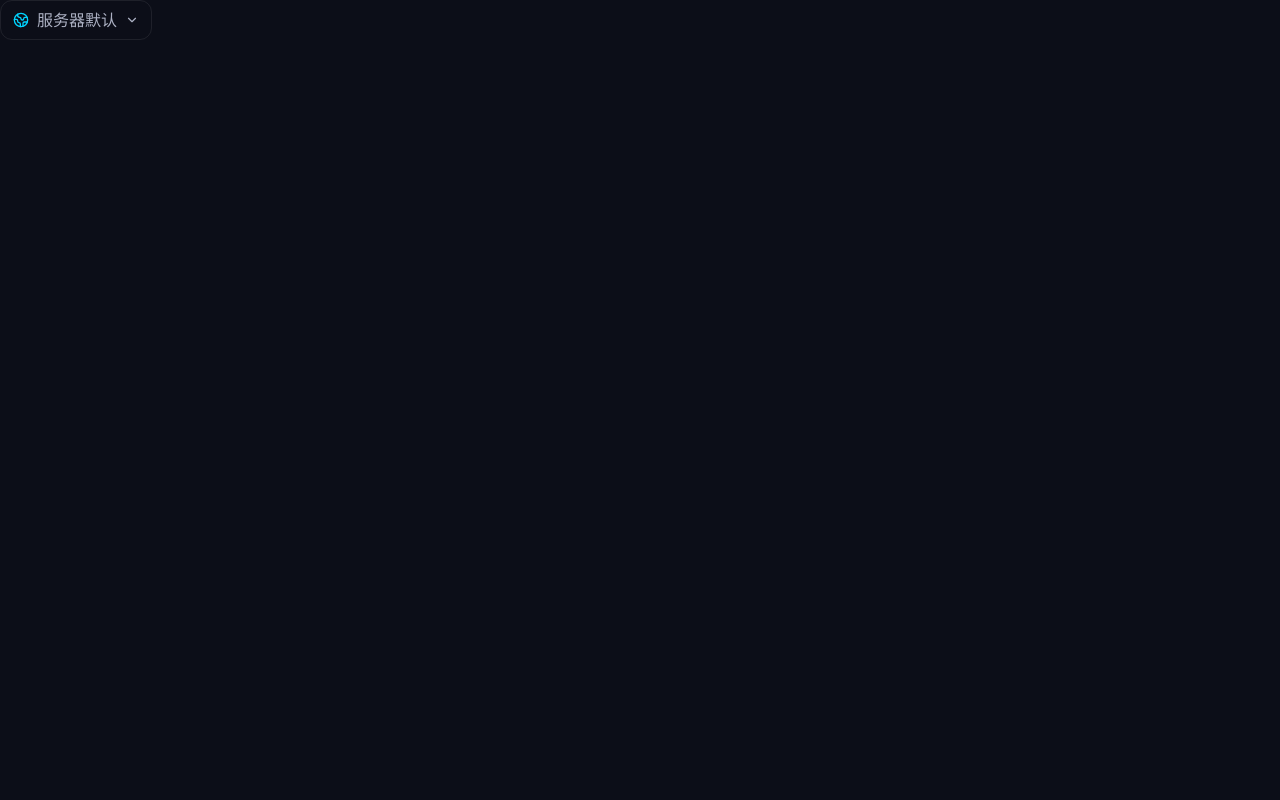
Test case: MarketReviewRegionSelector › keeps the runtime-resolved server default opaque and emits a canonical override
The width and height of the screenshot is (1280, 800).
Later steps or results of the test are not shown.
Click the button with aria-label "选择大盘复盘市场" at {"x": 76, "y": 20}, box [0,0,152,40]
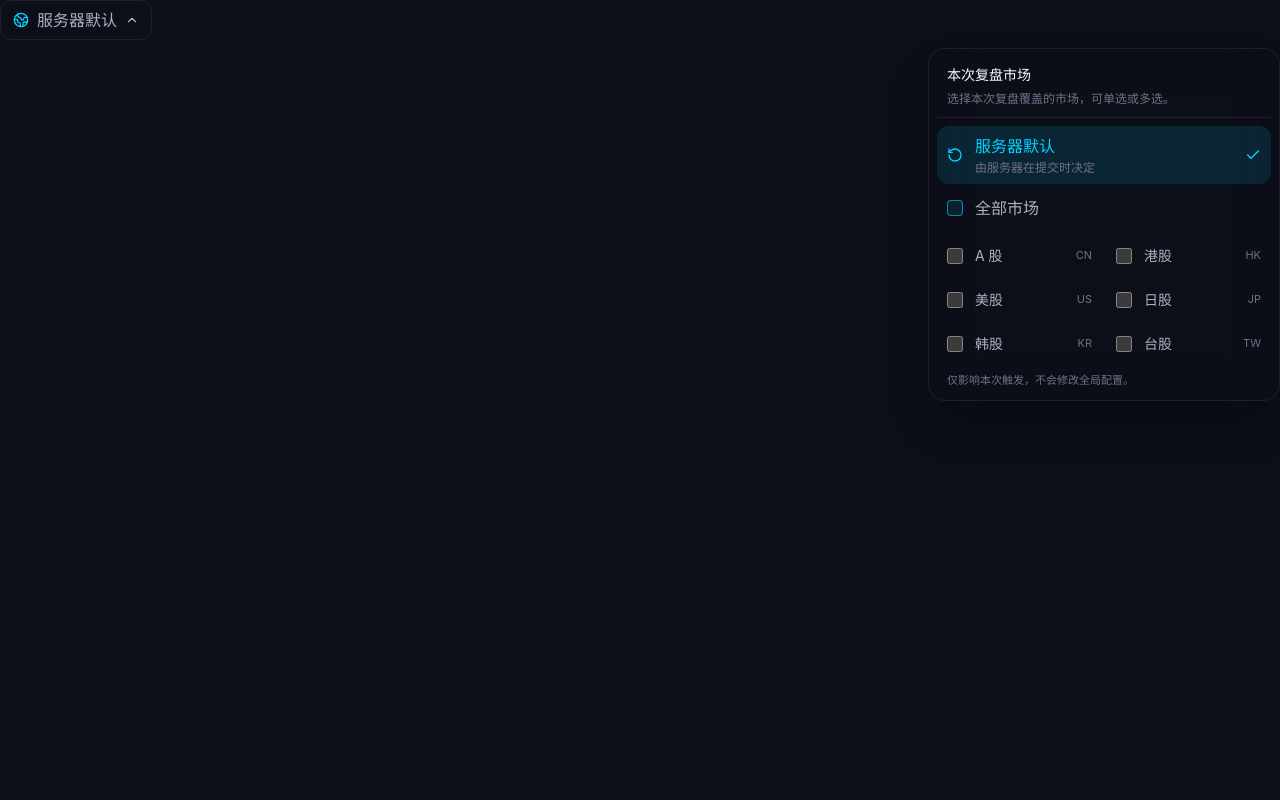
expect the text "由服务器在提交时决定" is shown: met, box [975,160,1095,175]
expect the checkbox labelled "A 股 cn" is not checked: met, box [947,248,963,264]
expect the checkbox labelled "美股 us" is not checked: met, box [947,292,963,308]
